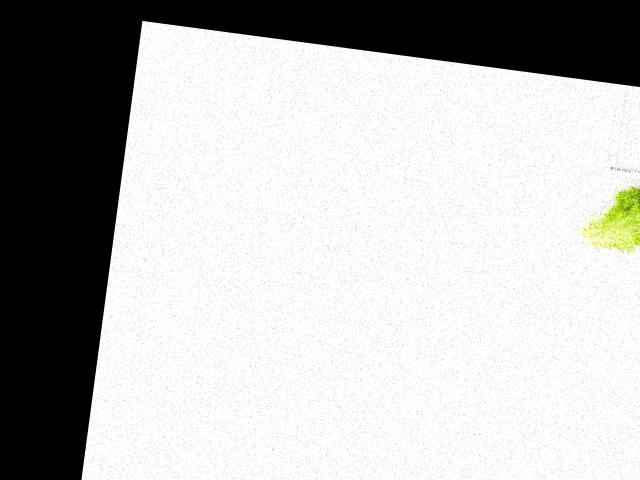lettuce: (580, 177, 640, 263)
